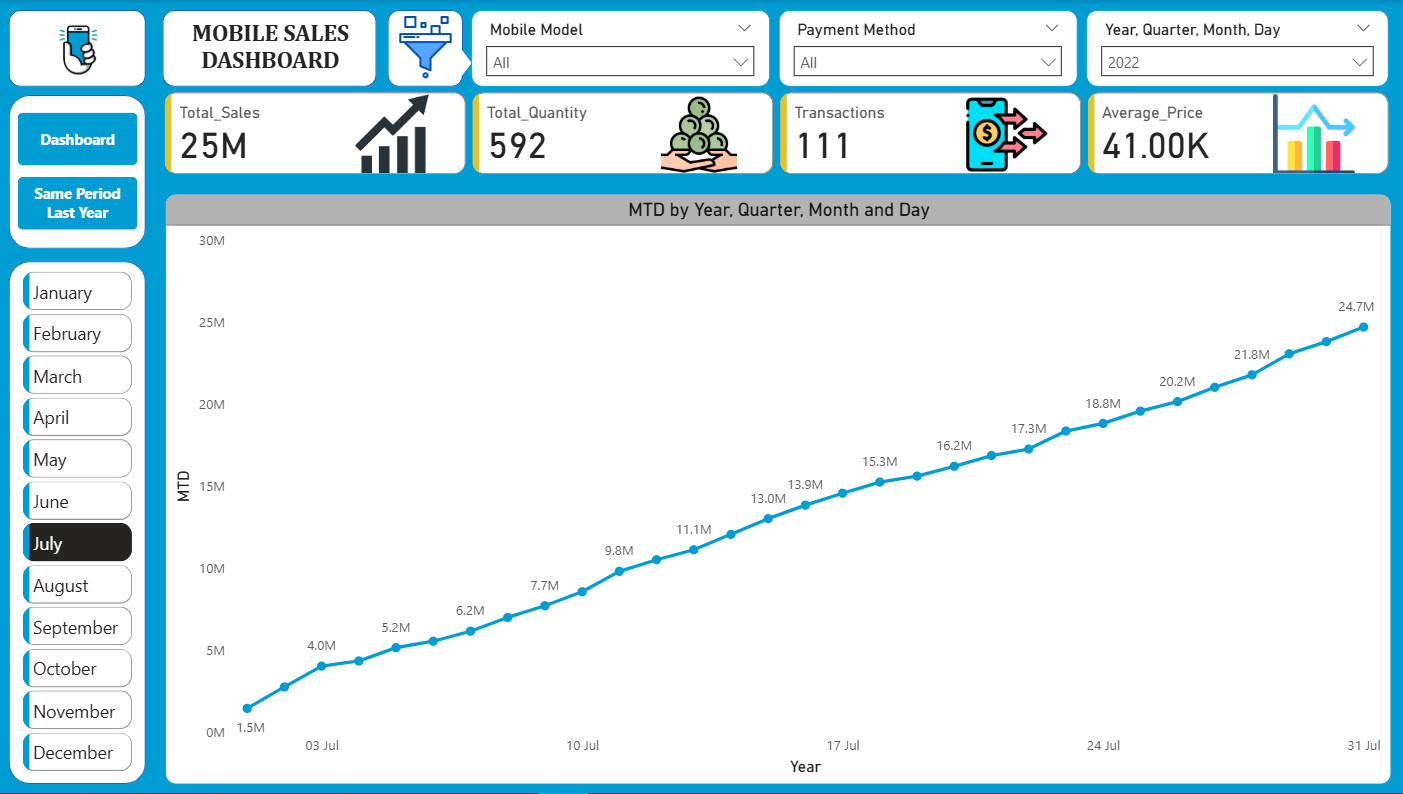

Layout of this report page (visuals, bound fields, positions):
{"tool":"powerbi","page":{"name":"MTD Report","canvas":[1280,720],"ordinal":1},"visuals":[{"type":"shape","box":[8.1,9.3,124.4,69.8],"z":0},{"type":"image","box":[23.3,16.3,94.2,58.1],"z":1000},{"type":"shape","box":[8.1,86,124.4,139.5],"z":2000},{"type":"cardVisual","fields":{"Data":["Sales_Data.Total_Sales","Sales_Data.Total_Quantity","Sales_Data.Transactions","Sales_Data.Average_Price"]},"box":[132.6,67.4,1147.7,108.1],"z":3000},{"type":"slicer","fields":{"Values":["Sales_Data.Mobile Model"]},"box":[427.9,9.3,270.9,69.8],"z":4000},{"type":"slicer","fields":{"Values":["Sales_Data.Payment Method"]},"box":[707,9.3,270.9,69.8],"z":5000},{"type":"slicer","fields":{"Values":["Custom_Calendar.Date.Variation.Date Hierarchy.Year","Custom_Calendar.Date.Variation.Date Hierarchy.Quarter","Custom_Calendar.Date.Variation.Date Hierarchy.Month","Custom_Calendar.Date.Variation.Date Hierarchy.Day"]},"box":[986,9.3,274.4,69.8],"z":6000},{"type":"shape","box":[351.2,9.3,68.6,69.8],"z":7000},{"type":"shape","box":[407,43,20.9,27.9],"z":8000},{"type":"image","box":[350,14,70.9,58.1],"z":9000},{"type":"shape","box":[147.7,9.3,194.2,69.8],"z":10000},{"type":"textbox","box":[162.8,12.8,164,61.6],"z":11000},{"type":"lineChart","fields":{"Y":["Sales_Data.MTD"],"Category":["Custom_Calendar.Date.Variation.Date Hierarchy.Year","Custom_Calendar.Date.Variation.Date Hierarchy.Quarter","Custom_Calendar.Date.Variation.Date Hierarchy.Month","Custom_Calendar.Date.Variation.Date Hierarchy.Day"]},"box":[150,175.6,1112.8,536],"z":12000},{"type":"shape","box":[8.1,237.2,124.4,474.4],"z":13000},{"type":"advancedSlicerVisual","fields":{"Values":["Custom_Calendar.Date.Variation.Date Hierarchy.Month"]},"box":[16.3,241.9,109.3,464],"z":14000},{"type":"pageNavigator","box":[16.3,102.3,109.3,107],"z":15000}]}

Visuals, with their boxes in screenshot pixels (x1, y1, x2, y2), scaled from the page's 1280x720 canvas onto the 1403x794 screenshot:
shape: (x1=9, y1=10, x2=145, y2=87)
image: (x1=26, y1=18, x2=129, y2=82)
shape: (x1=9, y1=95, x2=145, y2=249)
cardVisual - Sales_Data.Total_Sales x Sales_Data.Total_Quantity: (x1=145, y1=74, x2=1402, y2=194)
slicer - Sales_Data.Mobile Model: (x1=469, y1=10, x2=766, y2=87)
slicer - Sales_Data.Payment Method: (x1=775, y1=10, x2=1072, y2=87)
slicer - Custom_Calendar.Date.Variation.Date Hierarchy.Year x Custom_Calendar.Date.Variation.Date Hierarchy.Quarter: (x1=1081, y1=10, x2=1382, y2=87)
shape: (x1=385, y1=10, x2=460, y2=87)
shape: (x1=446, y1=47, x2=469, y2=78)
image: (x1=384, y1=15, x2=461, y2=80)
shape: (x1=162, y1=10, x2=375, y2=87)
textbox: (x1=178, y1=14, x2=358, y2=82)
lineChart - Sales_Data.MTD x Custom_Calendar.Date.Variation.Date Hierarchy.Year: (x1=164, y1=194, x2=1384, y2=785)
shape: (x1=9, y1=262, x2=145, y2=785)
advancedSlicerVisual - Custom_Calendar.Date.Variation.Date Hierarchy.Month: (x1=18, y1=267, x2=138, y2=778)
pageNavigator: (x1=18, y1=113, x2=138, y2=231)
